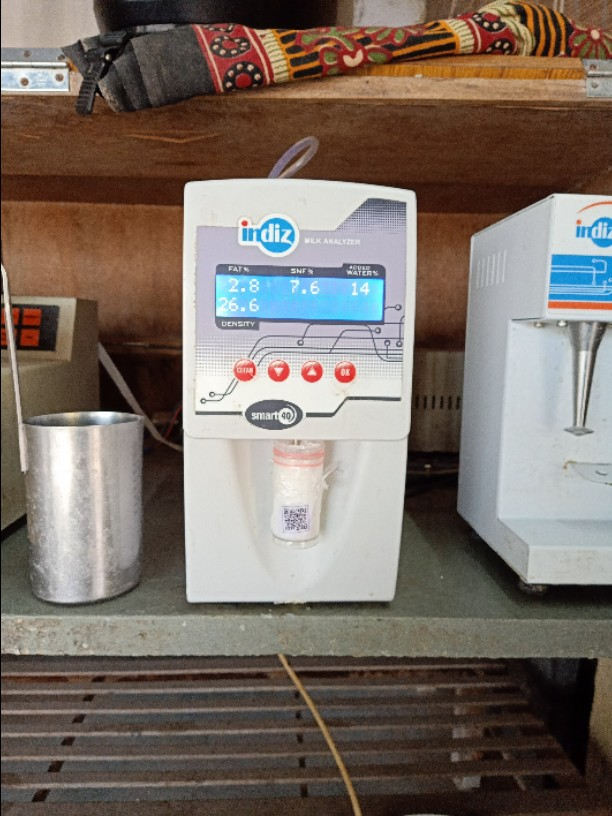lcd: (211, 266, 388, 332)
qr: (277, 504, 317, 537)
